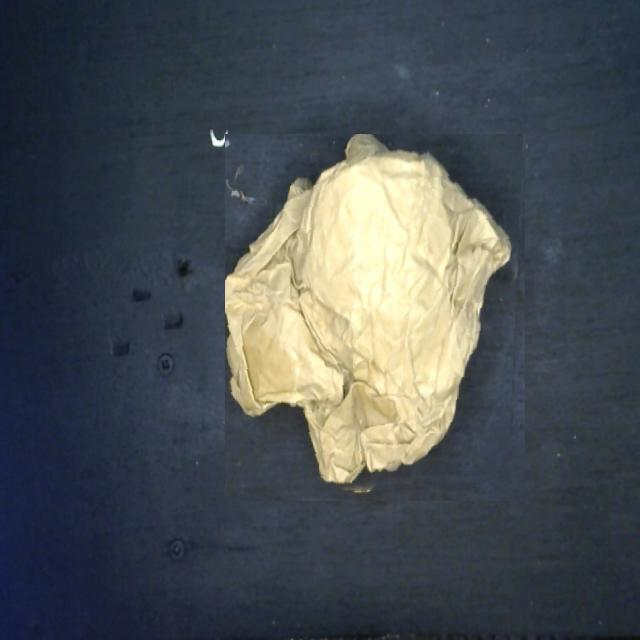biodegradable: (225, 134, 528, 501)
